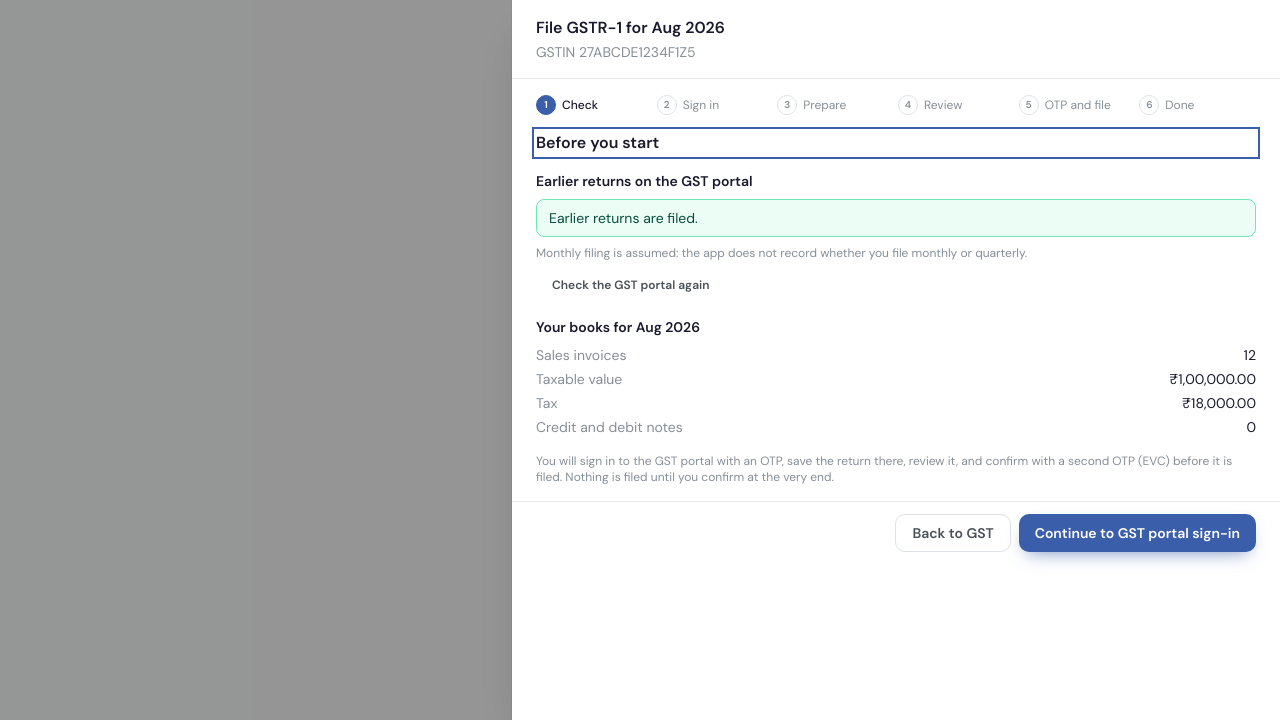
2. GST portal sign-in › sends the OTP to the registered mobile, verifies it, and never stores it
The width and height of the screenshot is (1280, 720).
Step 1. Click the button "Continue to GST portal sign-in" → click(1137, 533), box [1019,514,1256,552]
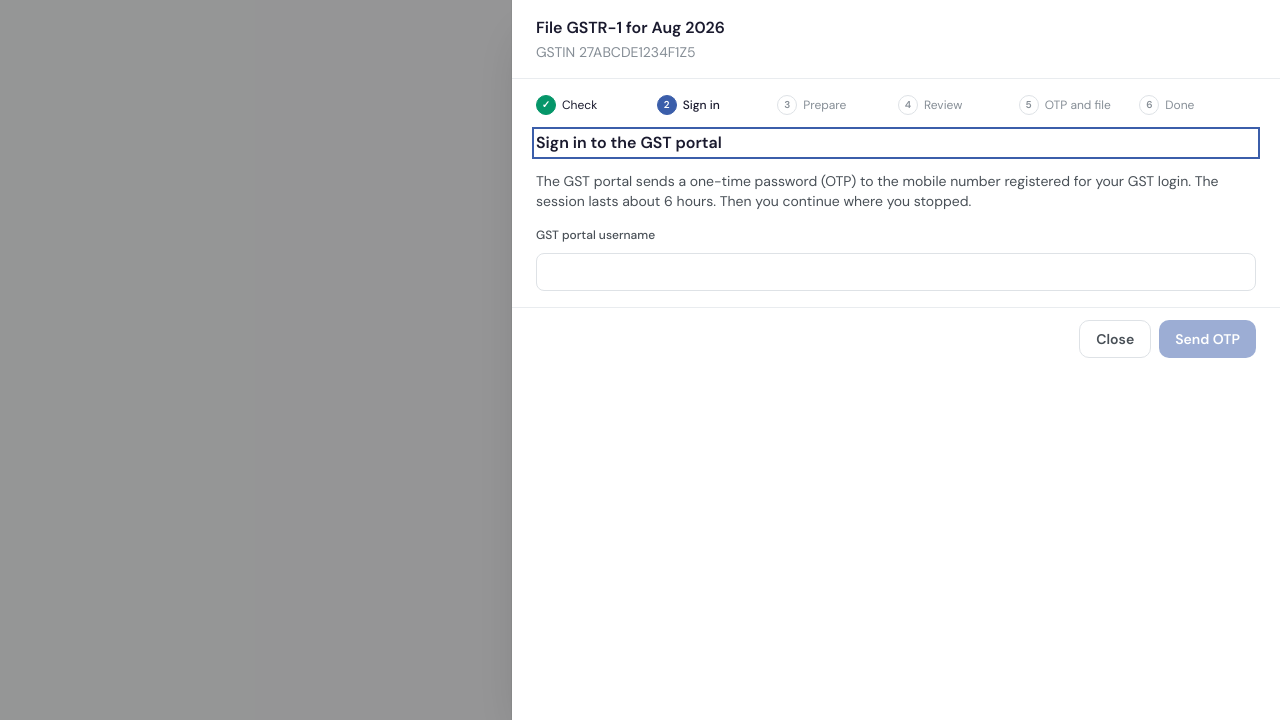
Step 2. Type "portal.user" into the field labelled "GST portal username" → (896, 272), box [536,253,1256,291]
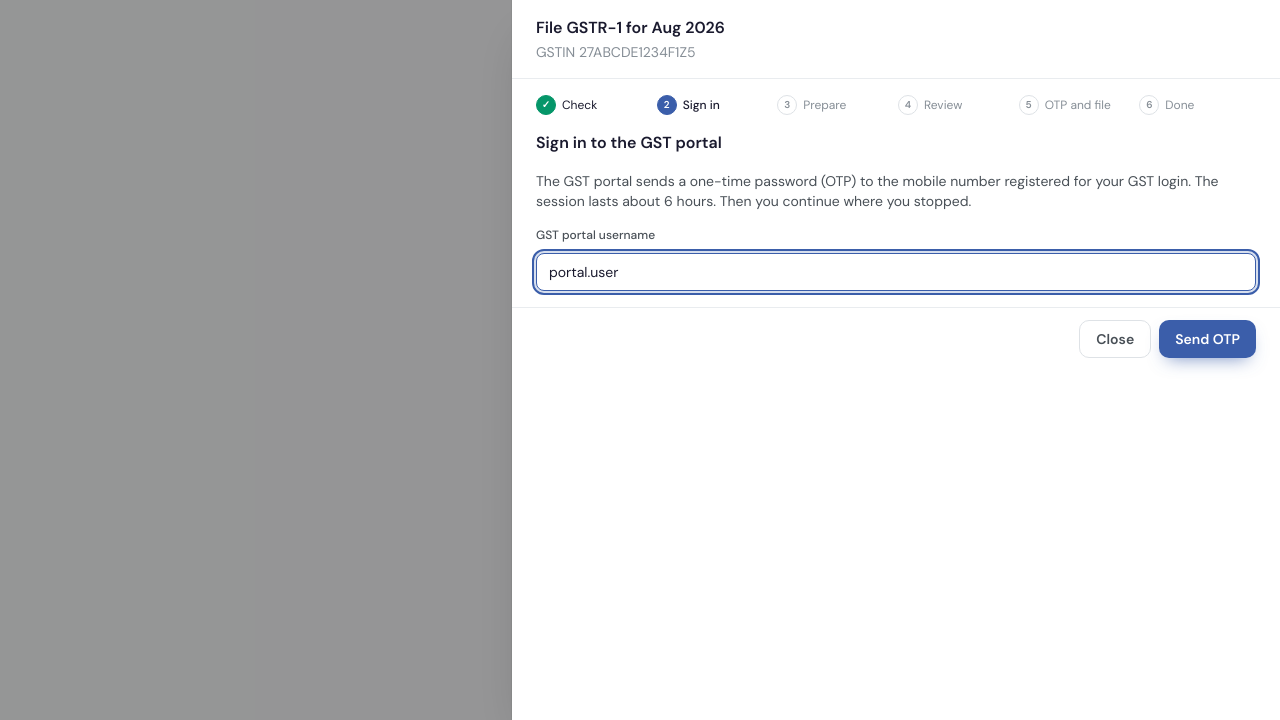
Step 3. Click the button "Send OTP" → click(1208, 339), box [1159,320,1256,358]
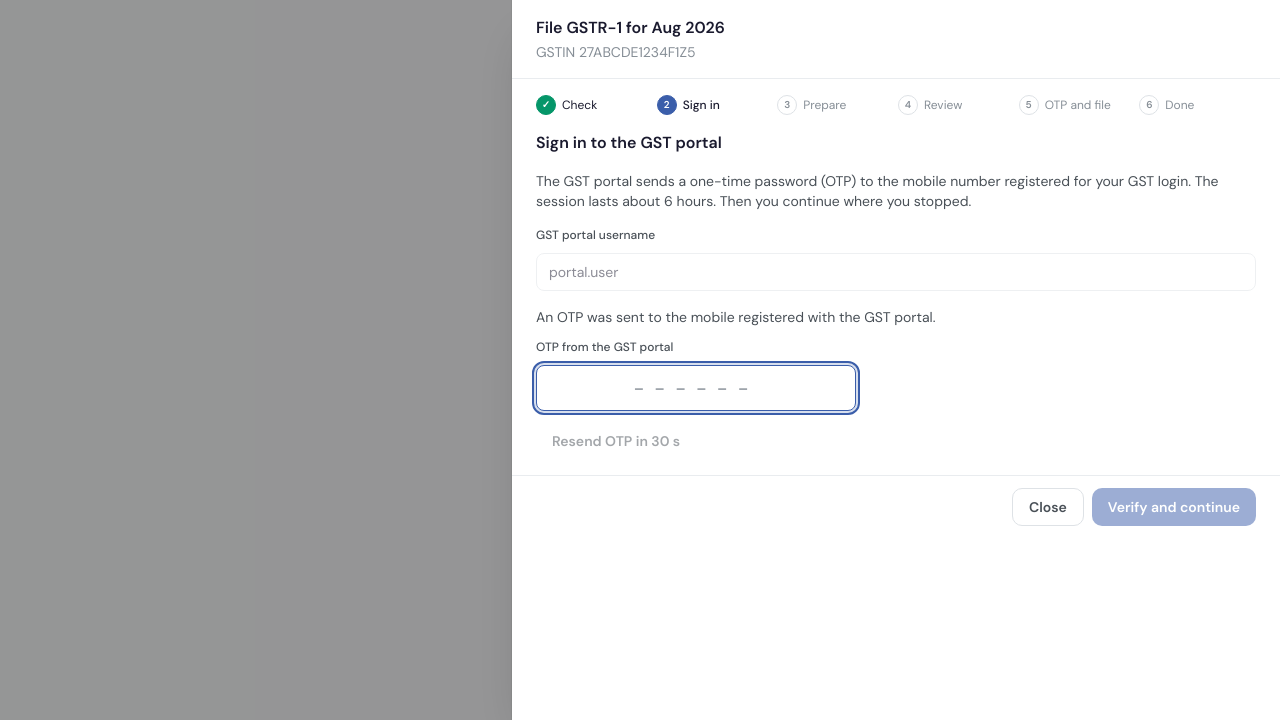
Step 4. Type "482913" into the field labelled "OTP from the GST portal" → (696, 388), box [536,365,856,411]
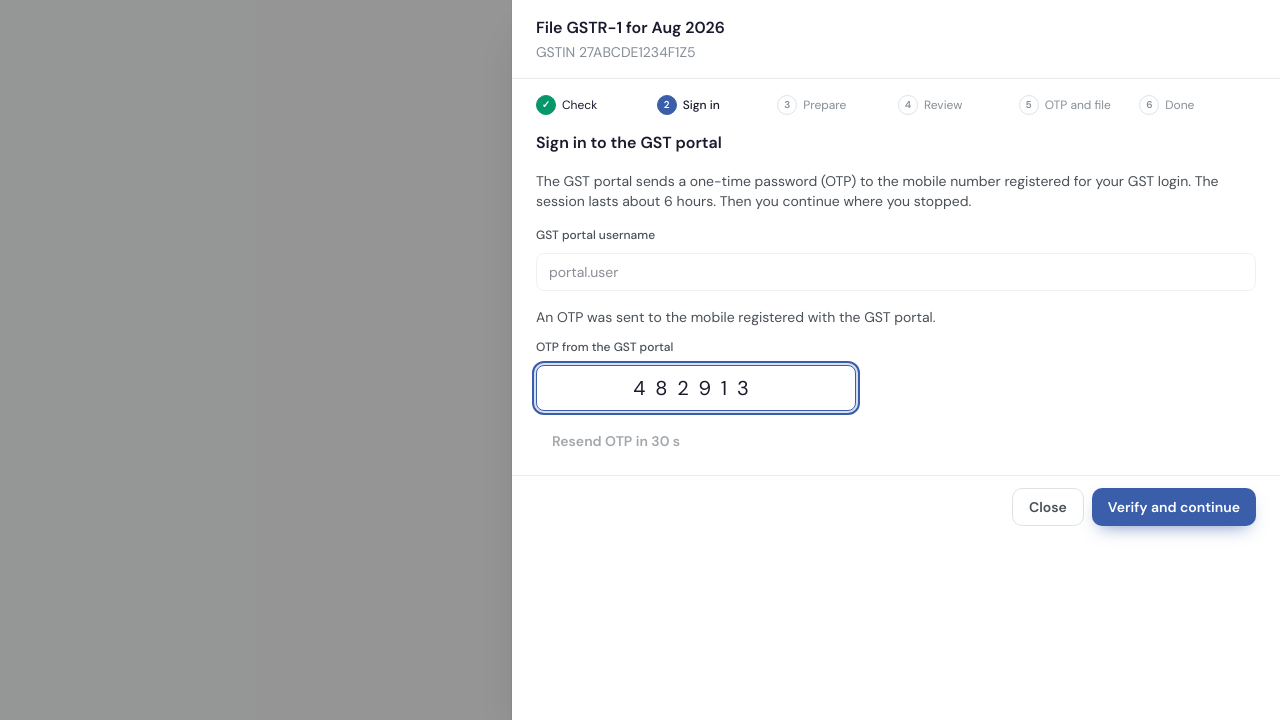
Step 5. Click the button "Verify and continue" → click(1174, 507), box [1092,488,1256,526]
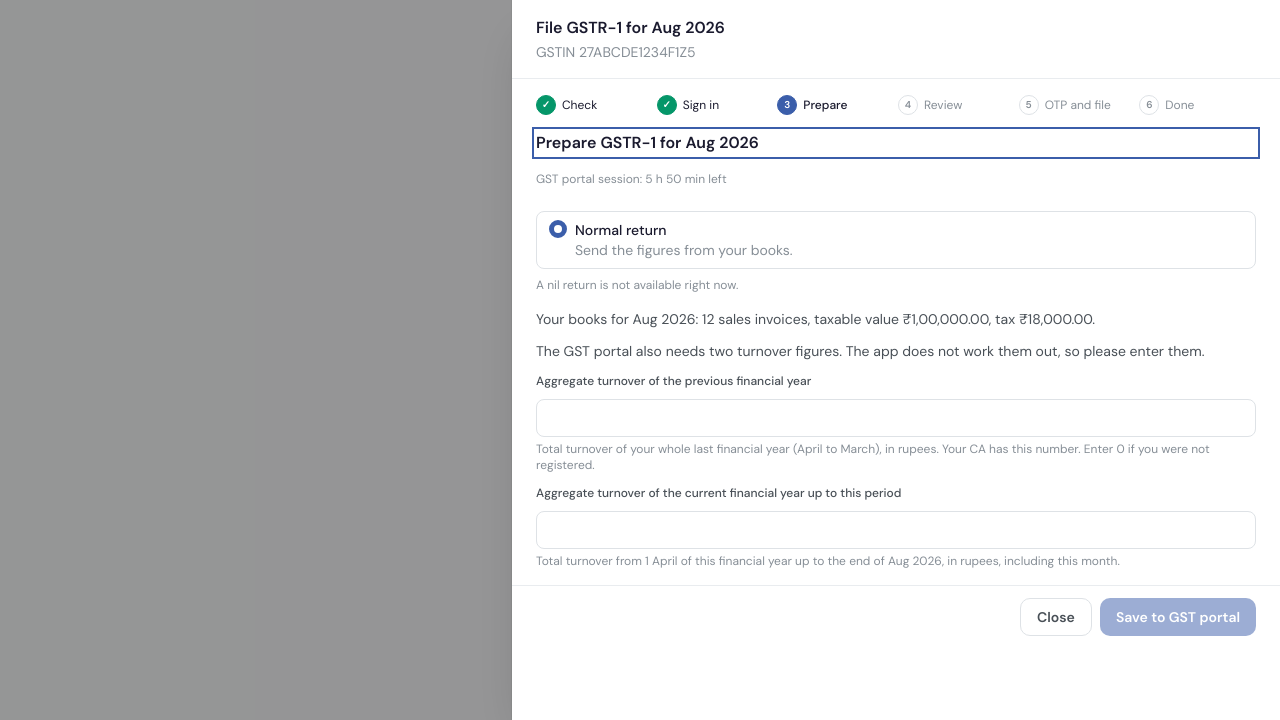
Expected: the text "482913" is not shown
Result: the heading "Prepare GSTR-1 for Aug 2026" is shown at [536,132,759,153]
Result: the text with test id "session-left" shows "5 h" at [645,171,705,187]
